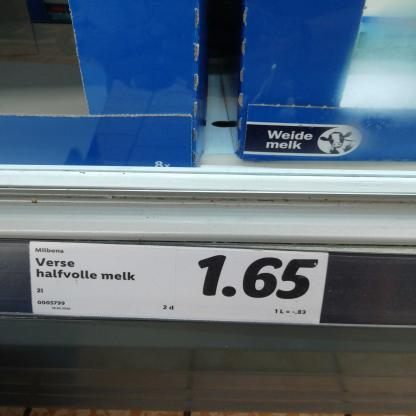prtg: (30, 242, 330, 325)
